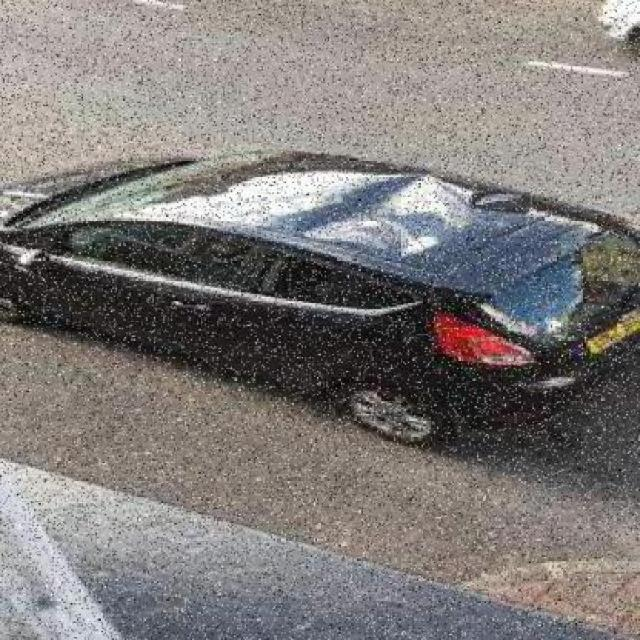roof-dent: (180, 151, 603, 277)
